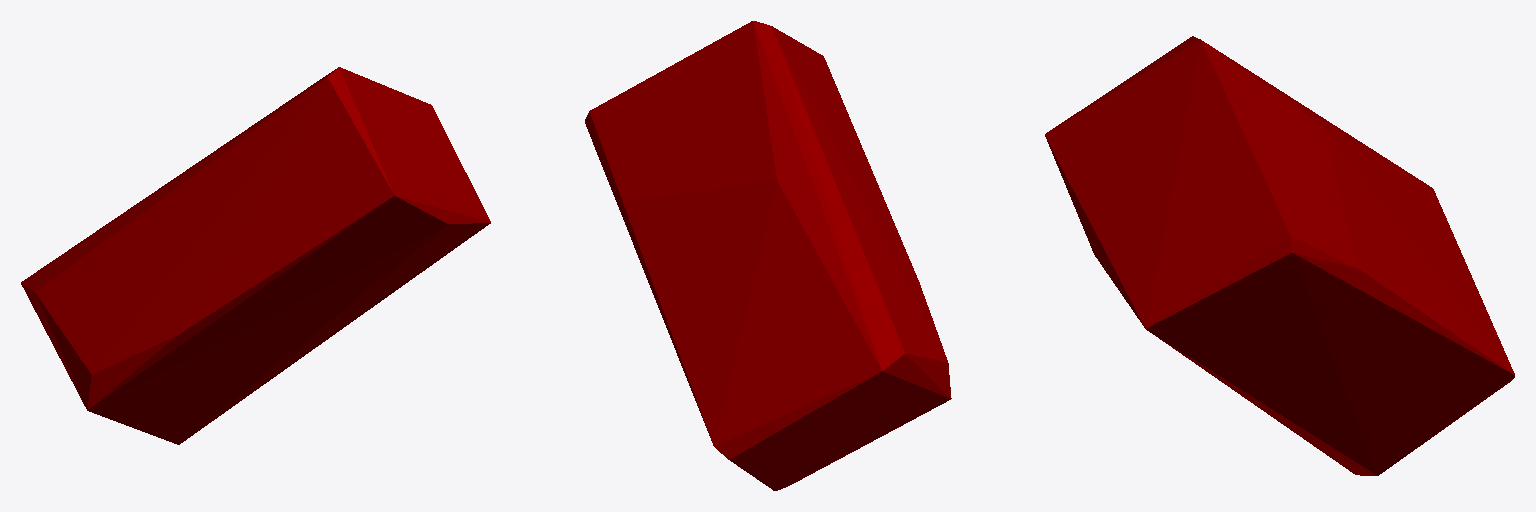
The robot description file, URDF, robot "napkin":
<?xml version="1.0"?>
<robot name="napkin" xmlns:drake="https://drake.mit.edu/">
    <link name="body">
        <inertial>
            <origin xyz="0 0 0" rpy="0 0 0"/>
            <mass value="0.056" />
            <inertia
                ixx="0.00010416"
                ixy="0"
                ixz="0"
                iyy="0.00031107"
                iyz="0"
                izz="0.00028084"/>
        </inertial>
        <visual>
            <origin xyz="0 0 0" rpy="0 0 0" />
            <geometry>
                <mesh filename="napkin_textured_mesh_with_normals.obj"/>
            </geometry>
            <material name="pennred">
                <color rgba="0.6 0 0 1.0" />
            </material>
        </visual>
        <collision>
            <geometry>
                <mesh filename="napkin_textured_mesh_with_normals.obj"/>
            </geometry>
            <origin xyz="0 0 0" rpy="0 0 0" />
            <drake:proximity_properties>
                <drake:mu_static value="0.15" />
            </drake:proximity_properties>
        </collision>
    </link>
</robot>

--- Facts derived from the render (not from the file) ---
Views: 3 orthographic renders of the robot side by side, from view 1: azimuth 30°, elevation 25°; view 2: azimuth 150°, elevation 25°; view 3: azimuth 270°, elevation 25°.
Model napkin with 1 links and 0 joints (none), rooted at body, posed all joints at 0.
Visible links, largest first — view 1: body; view 2: body; view 3: body.
Boxes of the visible links, x1,y1,x2,y2 form: body: [21, 67, 490, 444]; body: [585, 21, 951, 490]; body: [1045, 36, 1514, 475].
Bounding box of the posed robot: 0.2319 × 0.2119 × 0.2453 m (x, y, z).
1 mesh visuals loaded from 1 distinct referenced files (1 OBJ).
